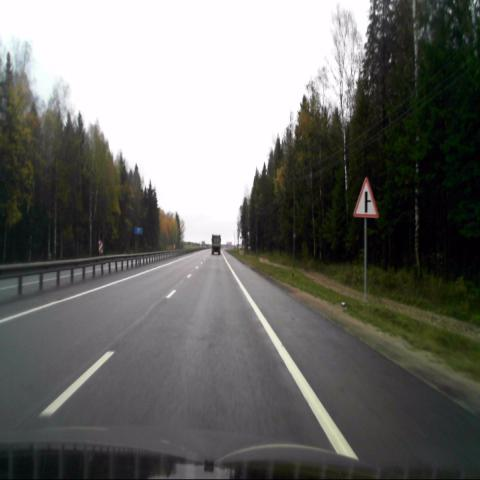2_3_2: (353, 177, 379, 218)
